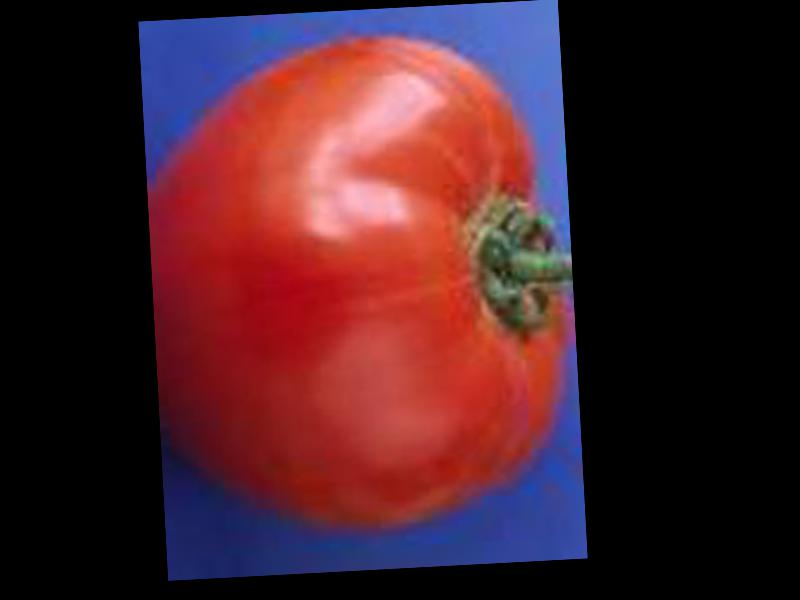Tomato: (142, 27, 582, 541)
